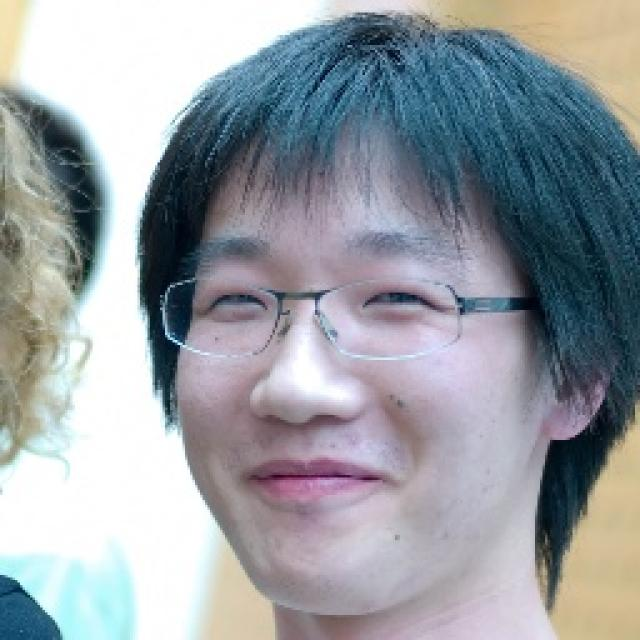earlobe: (542, 282, 620, 441)
